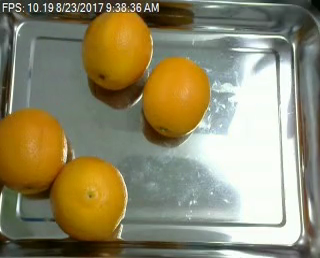Orange: (51, 157, 129, 239), (81, 11, 153, 89), (1, 108, 67, 193), (141, 56, 210, 137)
